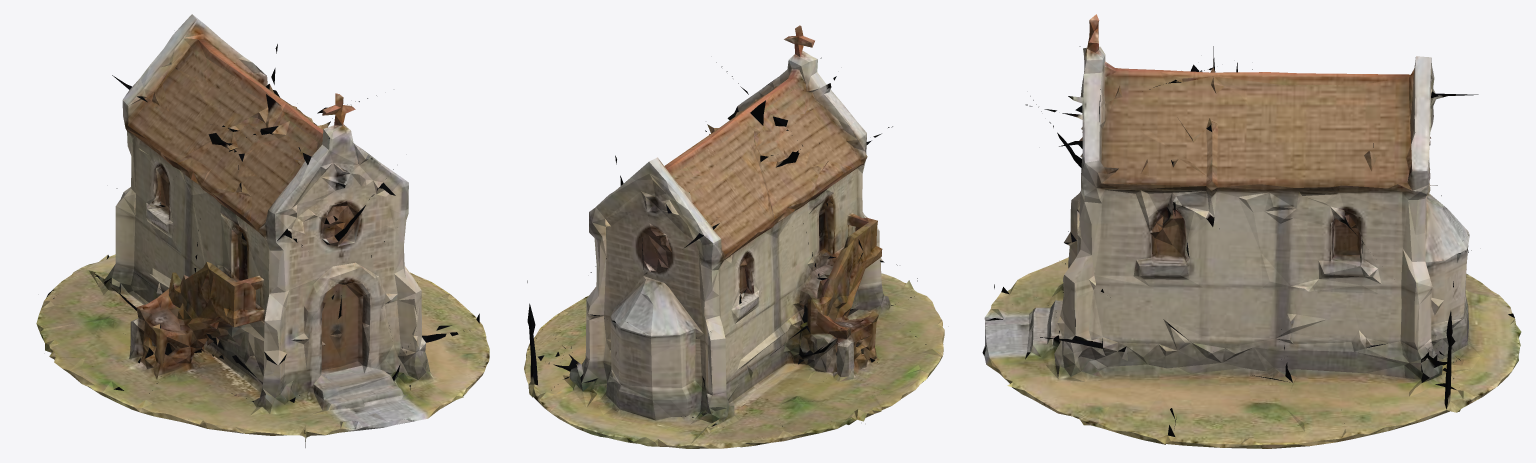
Rendered from chapel_island_small_lod0.glb.
3 renders of one model, left to right at view 1: azimuth 30°, elevation 25°; view 2: azimuth 150°, elevation 25°; view 3: azimuth 270°, elevation 25°, orthographic. The views are drawn at different scales.
Parts seen in each view (by area): view 1: chapel_island_small_lod0; view 2: chapel_island_small_lod0; view 3: chapel_island_small_lod0.
Boxes of the visible parts, x1,y1,x2,y2 form: chapel_island_small_lod0: (36,14,489,447); chapel_island_small_lod0: (524,25,944,448); chapel_island_small_lod0: (982,14,1521,448).
Size of the model in its own units: 9.17 by 7.1 by 10.32.
Materials: 1 (1 with a texture image).
